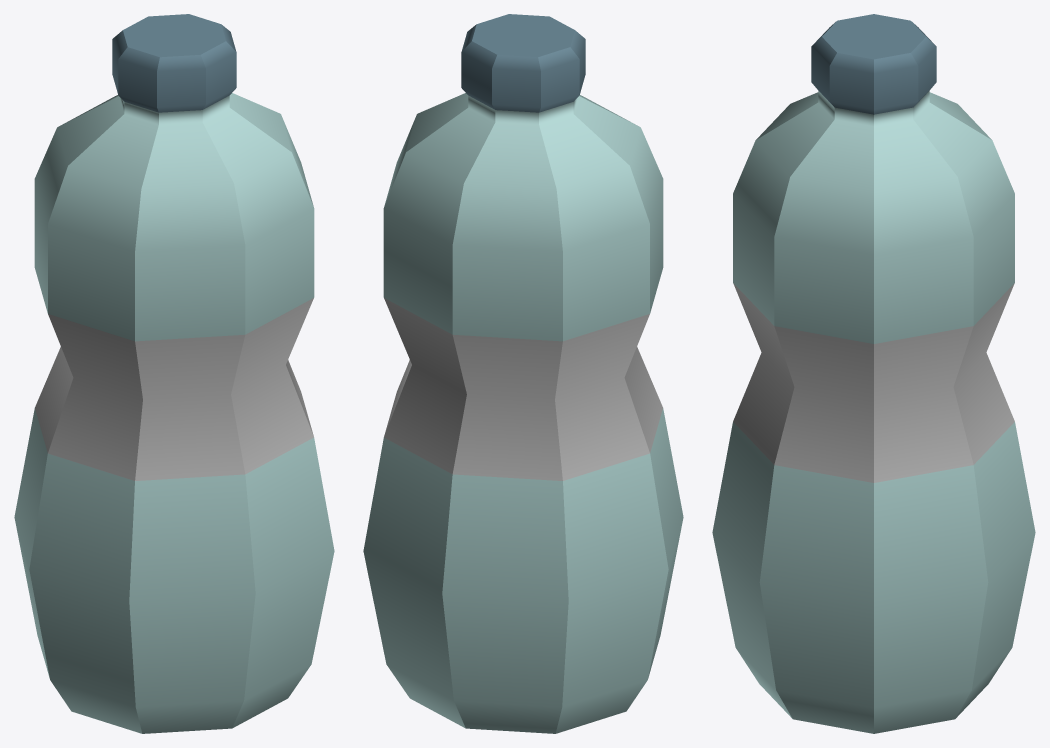
The model's file is bottle_new.fbx.
3 renders of one model, left to right at view 1: azimuth 30°, elevation 25°; view 2: azimuth 150°, elevation 25°; view 3: azimuth 270°, elevation 25°, orthographic.
Parts seen in each view (by area): view 1: pCylinder1; view 2: pCylinder1; view 3: pCylinder1.
Boxes of the visible parts, x1,y1,x2,y2 form: pCylinder1: (14,14,334,733); pCylinder1: (363,14,683,733); pCylinder1: (712,14,1035,733).
Size of the model in its own units: 0.2959 by 0.6434 by 0.2868.
